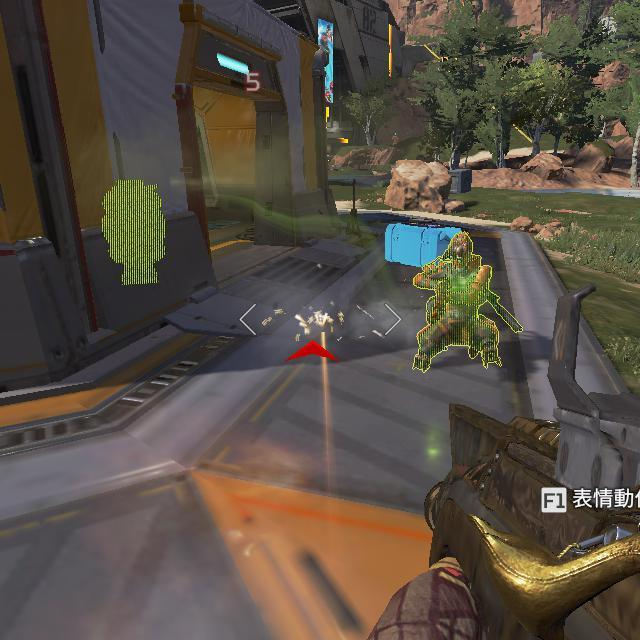avatar: (410, 231, 504, 373)
